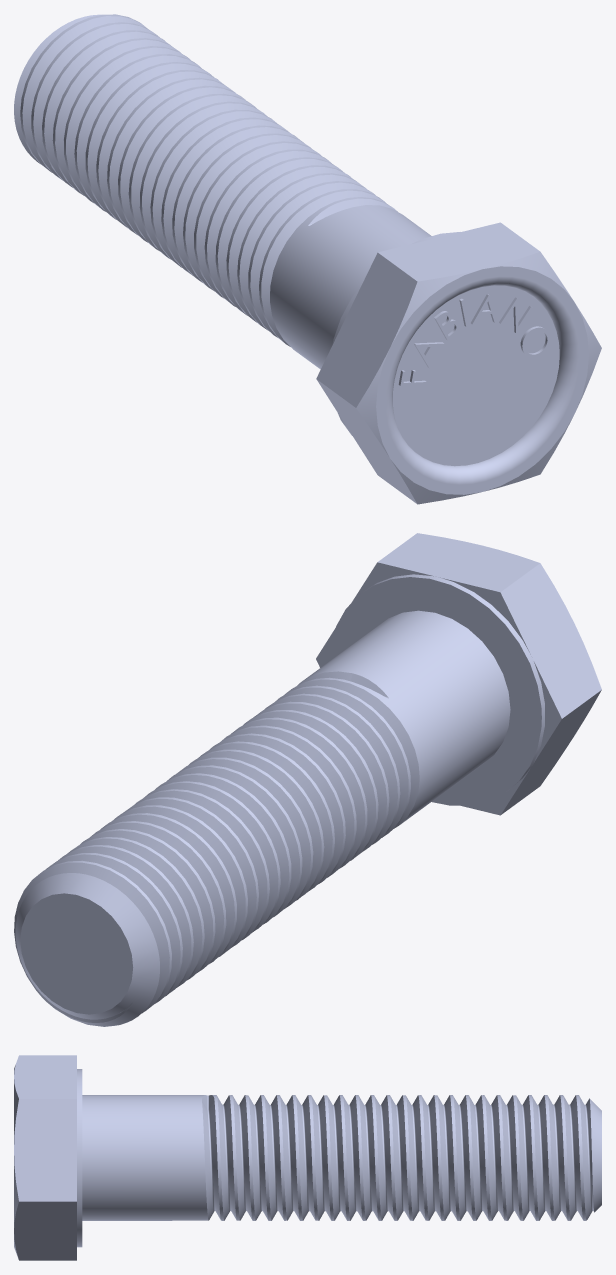
The model's file is parafuso_escalado.dae.
The picture shows the model from 3 angles, top to bottom: view 1: azimuth 30°, elevation 25°; view 2: azimuth 150°, elevation 25°; view 3: azimuth 270°, elevation 25°; orthographic projection. The views are drawn at different scales.
Visible parts, largest first — view 1: node_6ef048c0_719e_4464_b63a_61ba4b72e241_mesh0; view 2: node_6ef048c0_719e_4464_b63a_61ba4b72e241_mesh0; view 3: node_6ef048c0_719e_4464_b63a_61ba4b72e241_mesh0.
Part boxes in pixels (x1,y1,x2,y2): node_6ef048c0_719e_4464_b63a_61ba4b72e241_mesh0: (14,14,601,504); node_6ef048c0_719e_4464_b63a_61ba4b72e241_mesh0: (14,533,601,1026); node_6ef048c0_719e_4464_b63a_61ba4b72e241_mesh0: (14,1055,601,1260).
Size of the model in its own units: 0.00483 by 0.00418 by 0.0138.
